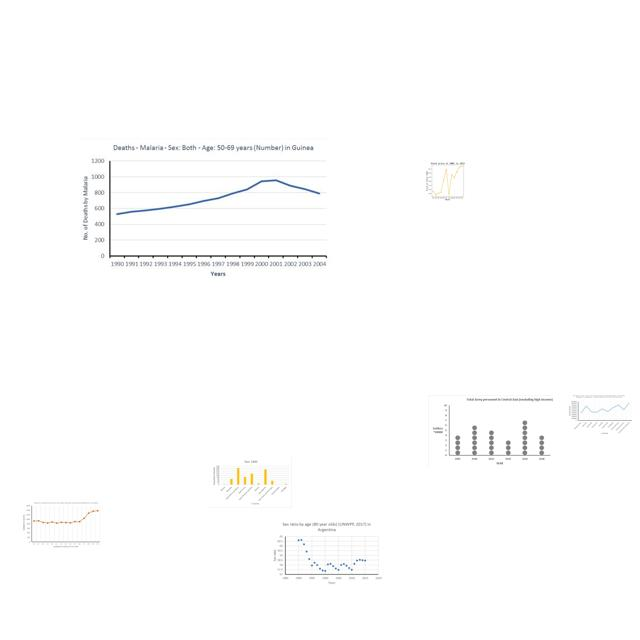Graph: (77, 138, 332, 284), (428, 395, 553, 468), (270, 521, 384, 587), (210, 458, 292, 508), (21, 500, 102, 550), (566, 394, 633, 435), (420, 160, 474, 201)
